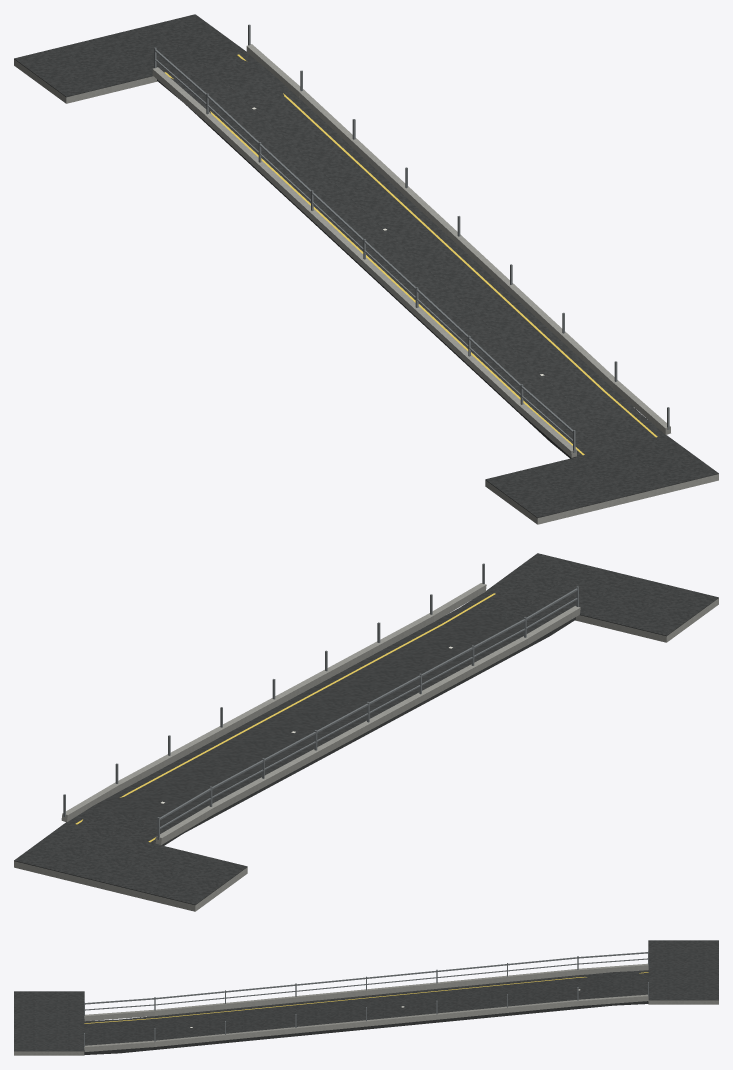
File: PZ_MorrowPark_RampKit_4x32m_Rise3p2m.glb
3 views of the same model, one above another, from view 1: azimuth 30°, elevation 25°; view 2: azimuth 150°, elevation 25°; view 3: azimuth 270°, elevation 25° (orthographic). The views are drawn at different scales.
Parts seen in each view (by area): view 1: RAMP_LOWER_SideTurn_Wear_4x4, RAMP_UPPER_SideTurn_Wear_4x4, RAMP_LOWER_ApproachWear_4x4, RAMP_SlopedDeck_Segment_05_Y20, RAMP_SlopedDeck_Segment_06_Y24, RAMP_SlopedDeck_Segment_01_Y04, RAMP_SlopedDeck_Segment_04_Y16, RAMP_SlopedDeck_Segment_02_Y08, RAMP_SlopedDeck_Segment_03_Y12, RAMP_SlopedDeck_Segment_07_Y28, RAMP_SlopedDeck_Segment_00_Y00, RAMP_UPPER_ApproachWear_4x4 (+2 smaller); view 2: RAMP_UPPER_SideTurn_Wear_4x4, RAMP_LOWER_SideTurn_Wear_4x4, RAMP_UPPER_ApproachWear_4x4, RAMP_LOWER_ApproachWear_4x4, RAMP_SlopedDeck_Segment_07_Y28, RAMP_SlopedDeck_Segment_00_Y00, RAMP_SlopedDeck_Segment_06_Y24, RAMP_SlopedDeck_Segment_05_Y20, RAMP_SlopedDeck_Segment_04_Y16, RAMP_SlopedDeck_Segment_01_Y04, RAMP_SlopedDeck_Segment_02_Y08, RAMP_SlopedDeck_Segment_03_Y12 (+19 smaller); view 3: RAMP_LOWER_ApproachWear_4x4, RAMP_UPPER_ApproachWear_4x4, RAMP_LOWER_SideTurn_Wear_4x4, RAMP_UPPER_SideTurn_Wear_4x4, RAMP_SlopedDeck_Segment_00_Y00, RAMP_SlopedDeck_Segment_01_Y04, RAMP_SlopedDeck_Segment_05_Y20, RAMP_SlopedDeck_Segment_03_Y12, RAMP_SlopedDeck_Segment_06_Y24, RAMP_SlopedDeck_Segment_04_Y16, RAMP_SlopedDeck_Segment_02_Y08, RAMP_SlopedDeck_Segment_07_Y28 (+18 smaller).
Part boxes in pixels (x1,y1,x2,y2): RAMP_LOWER_SideTurn_Wear_4x4: [485, 457, 628, 518]; RAMP_UPPER_SideTurn_Wear_4x4: [14, 36, 152, 97]; RAMP_LOWER_ApproachWear_4x4: [576, 435, 718, 495]; RAMP_SlopedDeck_Segment_05_Y20: [261, 147, 403, 222]; RAMP_SlopedDeck_Segment_06_Y24: [209, 98, 351, 174]; RAMP_SlopedDeck_Segment_01_Y04: [471, 341, 612, 416]; RAMP_SlopedDeck_Segment_04_Y16: [314, 195, 455, 271]; RAMP_SlopedDeck_Segment_02_Y08: [419, 292, 560, 368]; RAMP_SlopedDeck_Segment_03_Y12: [366, 244, 508, 320]; RAMP_SlopedDeck_Segment_07_Y28: [157, 53, 298, 126]; RAMP_SlopedDeck_Segment_00_Y00: [523, 389, 665, 458]; RAMP_UPPER_ApproachWear_4x4: [105, 14, 246, 72]; RAMP_UPPER_SideTurn_Wear_4x4: [105, 844, 247, 905]; RAMP_LOWER_SideTurn_Wear_4x4: [580, 575, 718, 636]; RAMP_UPPER_ApproachWear_4x4: [14, 822, 156, 882]; RAMP_LOWER_ApproachWear_4x4: [486, 553, 627, 610]; RAMP_SlopedDeck_Segment_07_Y28: [67, 791, 209, 845]; RAMP_SlopedDeck_Segment_00_Y00: [434, 591, 575, 649]; RAMP_SlopedDeck_Segment_06_Y24: [120, 763, 261, 819]; RAMP_SlopedDeck_Segment_05_Y20: [172, 735, 313, 790]; RAMP_SlopedDeck_Segment_04_Y16: [224, 707, 366, 762]; RAMP_SlopedDeck_Segment_01_Y04: [381, 622, 523, 678]; RAMP_SlopedDeck_Segment_02_Y08: [329, 650, 471, 706]; RAMP_SlopedDeck_Segment_03_Y12: [277, 679, 418, 734]; RAMP_LOWER_ApproachWear_4x4: [14, 1021, 84, 1051]; RAMP_UPPER_ApproachWear_4x4: [648, 970, 718, 1000]; RAMP_LOWER_SideTurn_Wear_4x4: [14, 991, 84, 1020]; RAMP_UPPER_SideTurn_Wear_4x4: [648, 940, 718, 969]; RAMP_SlopedDeck_Segment_00_Y00: [84, 1016, 154, 1054]; RAMP_SlopedDeck_Segment_01_Y04: [155, 1009, 225, 1049]; RAMP_SlopedDeck_Segment_05_Y20: [437, 982, 507, 1022]; RAMP_SlopedDeck_Segment_03_Y12: [296, 995, 366, 1036]; RAMP_SlopedDeck_Segment_06_Y24: [507, 975, 577, 1015]; RAMP_SlopedDeck_Segment_04_Y16: [366, 989, 436, 1029]; RAMP_SlopedDeck_Segment_02_Y08: [225, 1002, 295, 1042]; RAMP_SlopedDeck_Segment_07_Y28: [578, 970, 648, 1008].
Bounding box in the file's own units: 8.21 × 4.64 × 40.
Materials: 5 (3 with a texture image).
